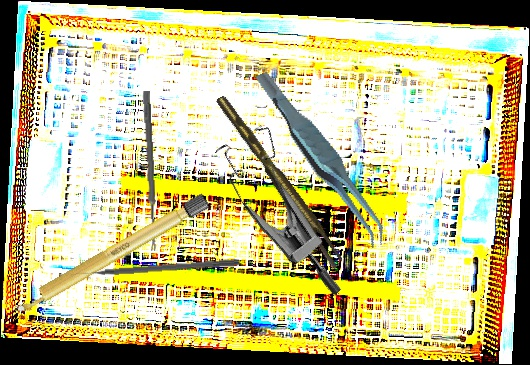Pusher: (69, 257, 241, 278)
Scalpel Handle: (8, 191, 212, 319)
Speculum: (190, 110, 392, 299)
Surgical Spoon: (141, 90, 159, 252)
Tissue Forceps: (254, 53, 390, 265), (215, 88, 346, 274)
